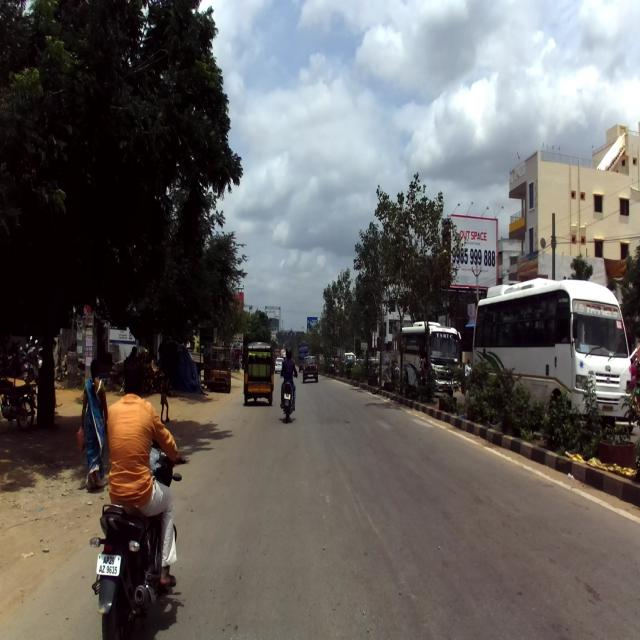mini-bus: (471, 276, 632, 438)
motorcycle: (90, 438, 187, 640)
